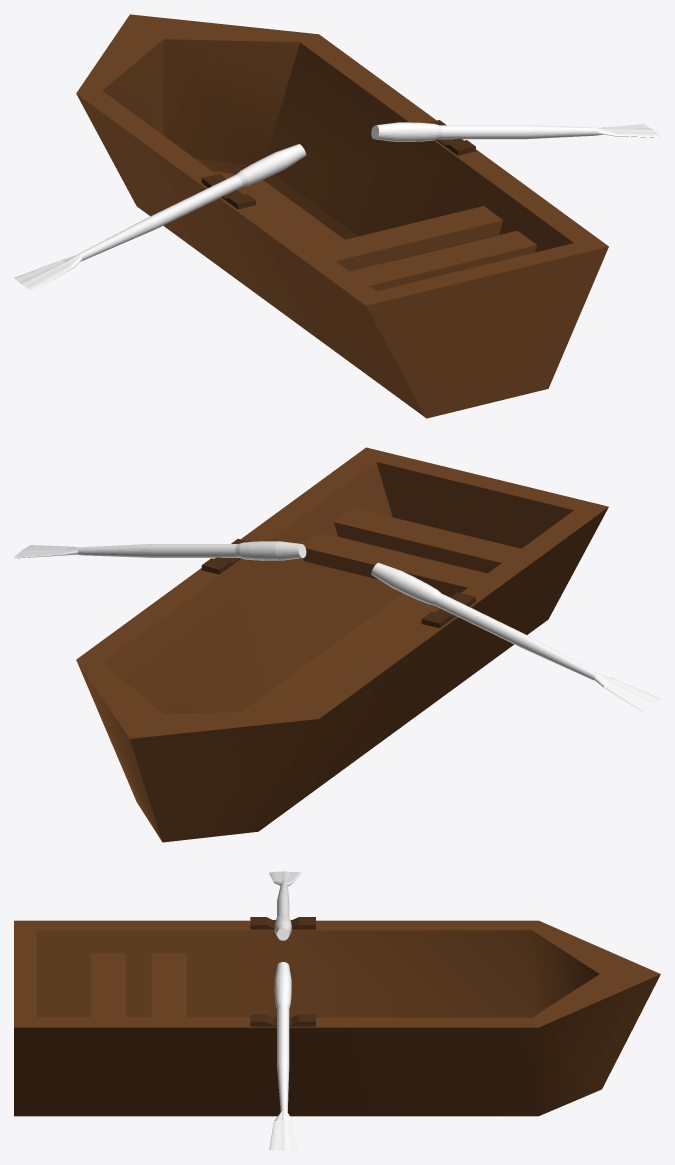
Rendered from t7_-_barco_a_remos_para_pesca.glb.
The picture shows the model from 3 angles, top to bottom: view 1: azimuth 30°, elevation 25°; view 2: azimuth 150°, elevation 25°; view 3: azimuth 270°, elevation 25°; orthographic projection. The views are drawn at different scales.
Parts seen in each view (by area): view 1: Plane.001_3, Plane.002_4, Plane_2; view 2: Plane.001_3, Plane.002_4, Plane_2; view 3: Plane.001_3, Plane.002_4, Plane_2.
Boxes of the visible parts, <box> form: Plane.001_3: <box>76,14,608,418</box>; Plane.002_4: <box>14,122,660,290</box>; Plane_2: <box>201,120,475,209</box>; Plane.001_3: <box>76,447,608,842</box>; Plane.002_4: <box>14,541,660,711</box>; Plane_2: <box>201,539,475,628</box>; Plane.001_3: <box>14,920,660,1116</box>; Plane.002_4: <box>269,871,301,1150</box>; Plane_2: <box>250,917,315,1026</box>.
Bounding box in the file's own units: 10.38 × 2.5 × 10.17.
